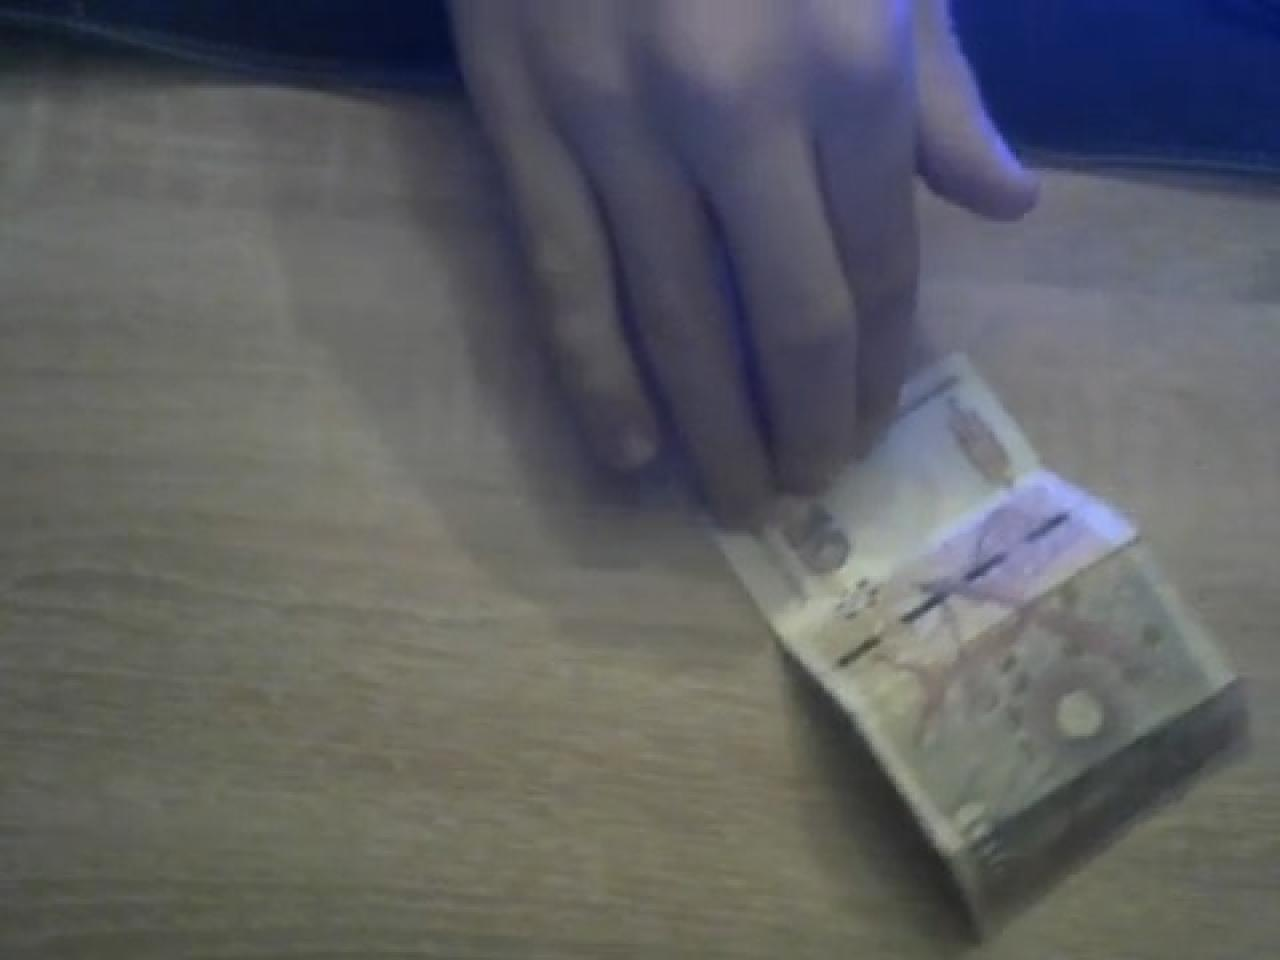10leva: (707, 357, 1248, 947)
